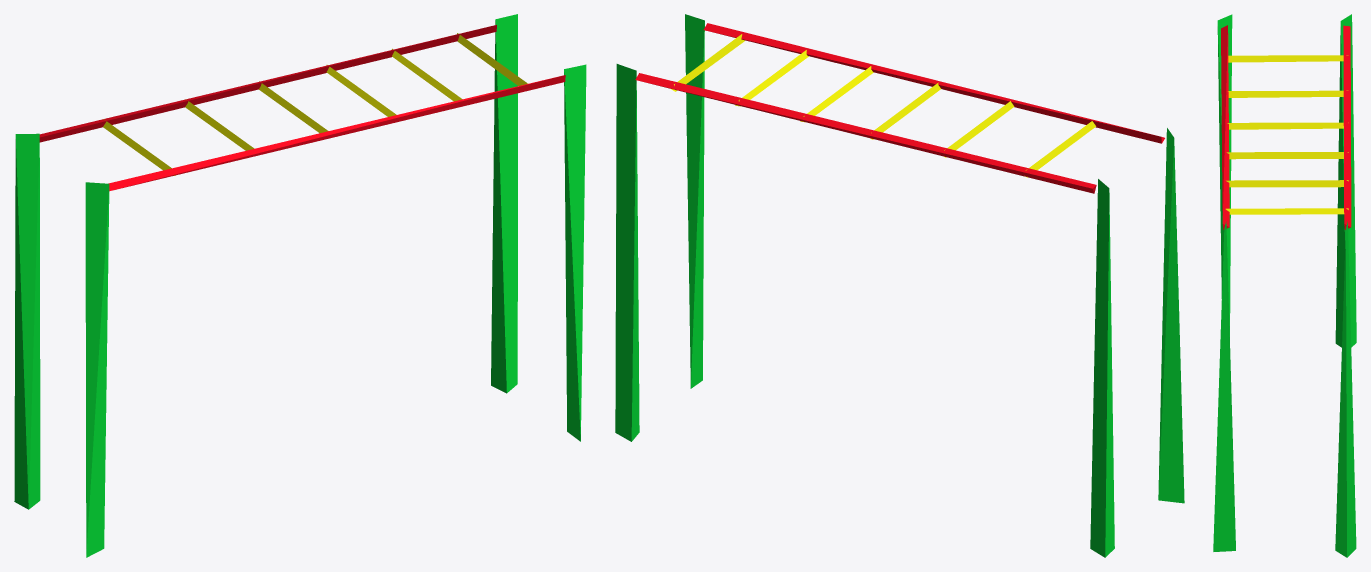
File: BrinquedoEscalevelLOD2.fbx
3 renders of one model, left to right at view 1: azimuth 30°, elevation 25°; view 2: azimuth 150°, elevation 25°; view 3: azimuth 270°, elevation 25°, orthographic. The views are drawn at different scales.
Visible parts, largest first — view 1: BrinquedoEscalavelLOD2; view 2: BrinquedoEscalavelLOD2; view 3: BrinquedoEscalavelLOD2.
Part boxes in pixels (x1,y1,x2,y2): BrinquedoEscalavelLOD2: [14, 14, 586, 557]; BrinquedoEscalavelLOD2: [615, 14, 1184, 557]; BrinquedoEscalavelLOD2: [1213, 14, 1356, 557].
Size of the model in its own units: 256 by 181 by 71.59.
